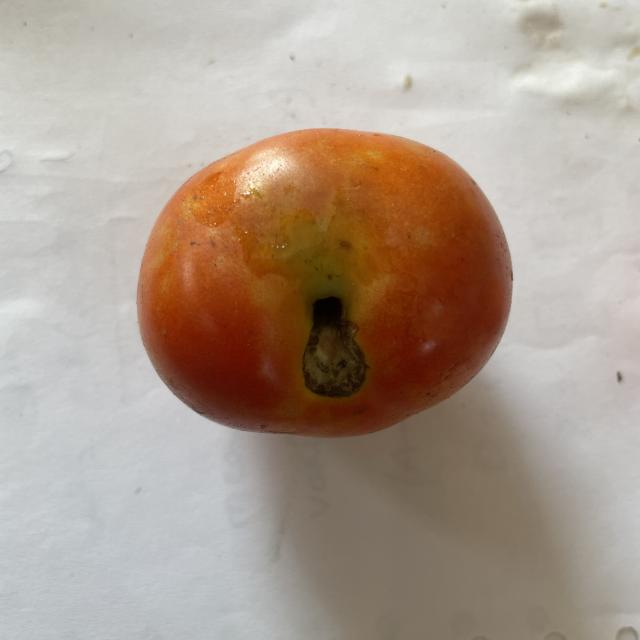fruitworm_bore: (307, 282, 352, 342)
